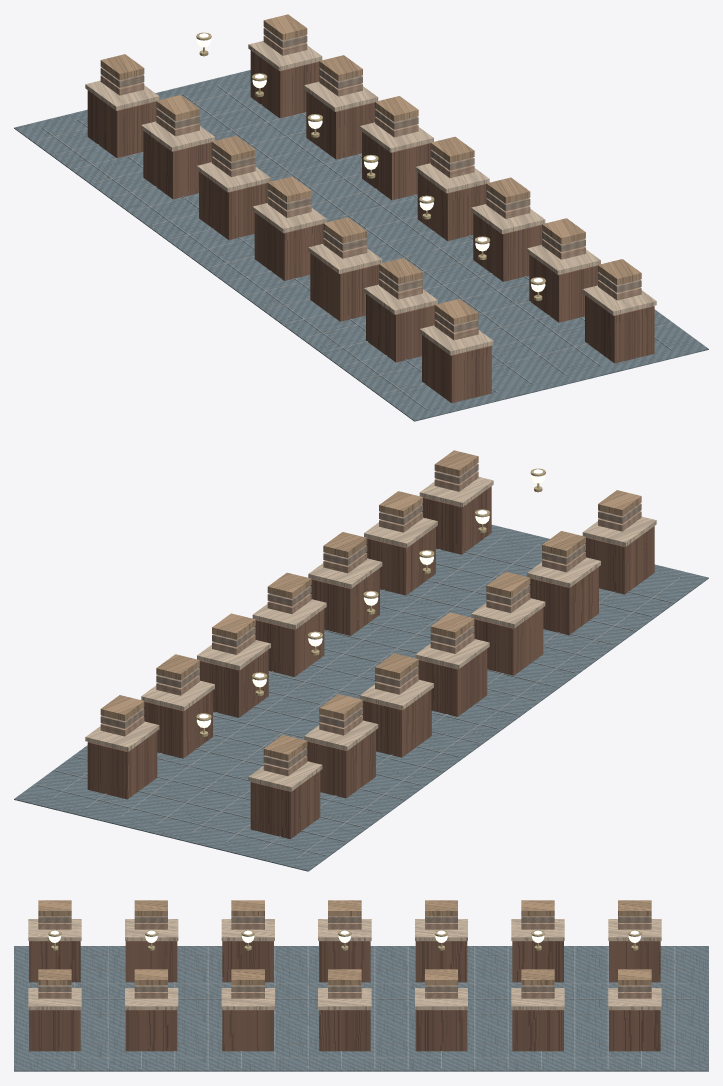
The model's file is cargo.gltf.
3 views of the same model, one above another, from view 1: azimuth 30°, elevation 25°; view 2: azimuth 150°, elevation 25°; view 3: azimuth 270°, elevation 25° (orthographic). The views are drawn at different scales.
Visible parts, largest first — view 1: steeldark, oakdark, woodlight, oak, steel, bronze, copper, brass, shades; view 2: steeldark, oakdark, woodlight, oak, steel, copper, bronze, shades, brass; view 3: steeldark, oakdark, woodlight, oak, steel, copper, bronze, shades, brass.
Part boxes in pixels (box(x1,y1,x2,y2)): steeldark: box(14, 70, 708, 421); oakdark: box(87, 50, 654, 403); woodlight: box(85, 41, 656, 355); oak: box(100, 14, 641, 324); steel: box(36, 85, 672, 409); bronze: box(100, 27, 641, 332); copper: box(100, 35, 641, 340); brass: box(196, 32, 545, 300); shades: box(196, 33, 545, 291); steeldark: box(14, 525, 708, 871); oakdark: box(87, 486, 654, 839); woodlight: box(85, 477, 656, 791); oak: box(100, 450, 641, 760); steel: box(36, 535, 680, 859); copper: box(100, 471, 641, 776); bronze: box(100, 463, 641, 768); shades: box(196, 469, 545, 727); brass: box(196, 468, 545, 736); steeldark: box(14, 946, 708, 1071); oakdark: box(29, 941, 660, 1051); woodlight: box(28, 919, 661, 1009); oak: box(38, 900, 651, 985); steel: box(28, 946, 694, 1069); copper: box(38, 923, 651, 998); bronze: box(38, 916, 651, 991); shades: box(48, 930, 640, 942); brass: box(48, 930, 641, 950).
Size of the model in its own units: 8.85 by 2.6 by 20.85.
10 materials, 10 textured.
